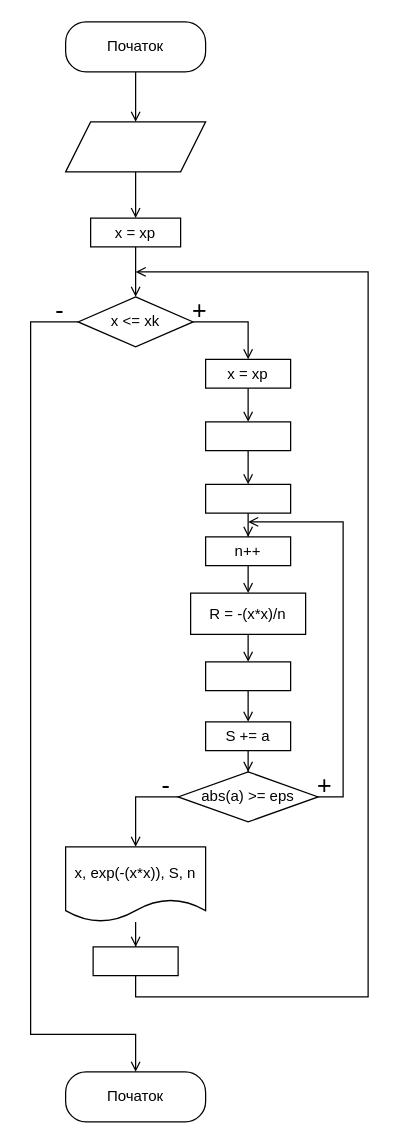
The diagram is 400 pixels wide and 1144 high, and some of its shapes have lost their labels. The centre of each missing label's shape, as x and y in pixels:
"a *= R" belongs at point 247,676.
"a = 1" belongs at point 247,436.
"S = a" belongs at point 247,498.
"x += dx" belongs at point 135,961.
"xp, xk, dx, eps" belongs at point 135,146.
